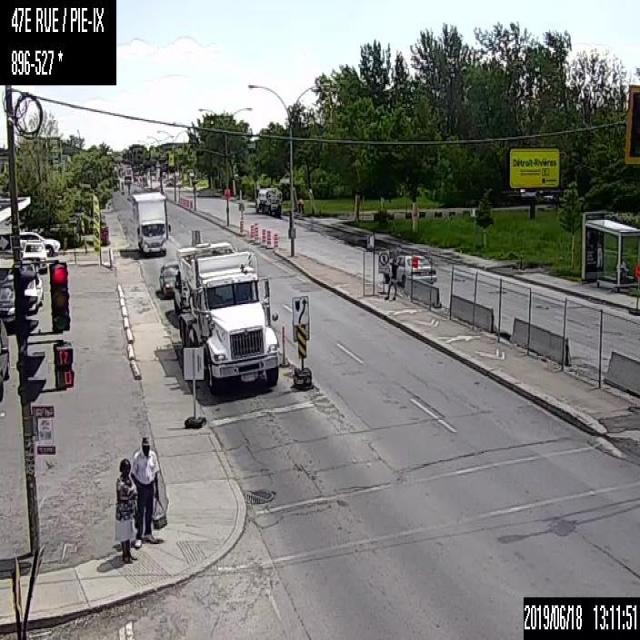construction: (281, 324, 284, 365), (273, 233, 278, 248), (266, 229, 270, 246), (261, 228, 265, 245), (250, 222, 254, 237), (254, 221, 257, 240)
pedestrian: (131, 430, 167, 542), (113, 458, 138, 563), (383, 257, 397, 300)
vehicle: (175, 242, 279, 395), (130, 188, 170, 256), (384, 252, 436, 288), (5, 264, 43, 312), (0, 317, 11, 407), (20, 231, 58, 254), (254, 185, 282, 215), (20, 240, 46, 272), (0, 278, 14, 327), (160, 261, 175, 296)
